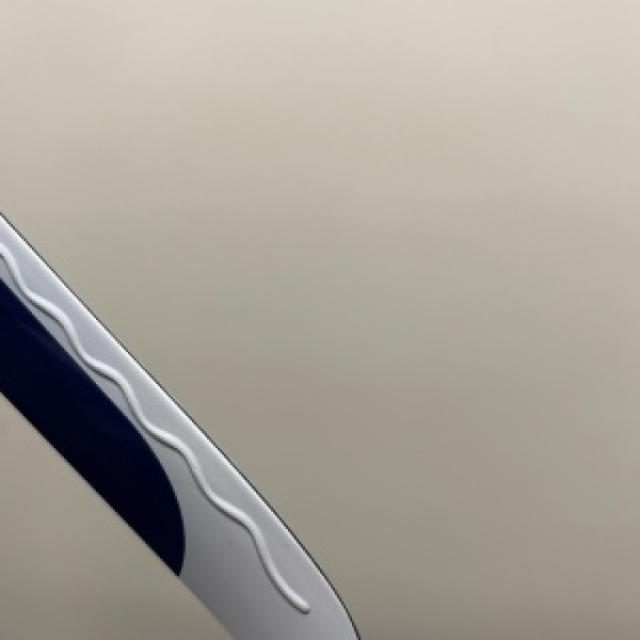healthy: (0, 215, 356, 638)
